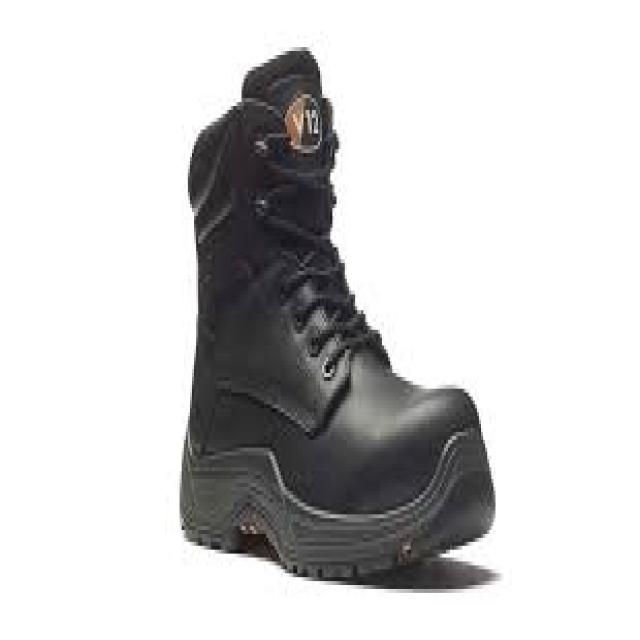shoes: (181, 52, 494, 576)
